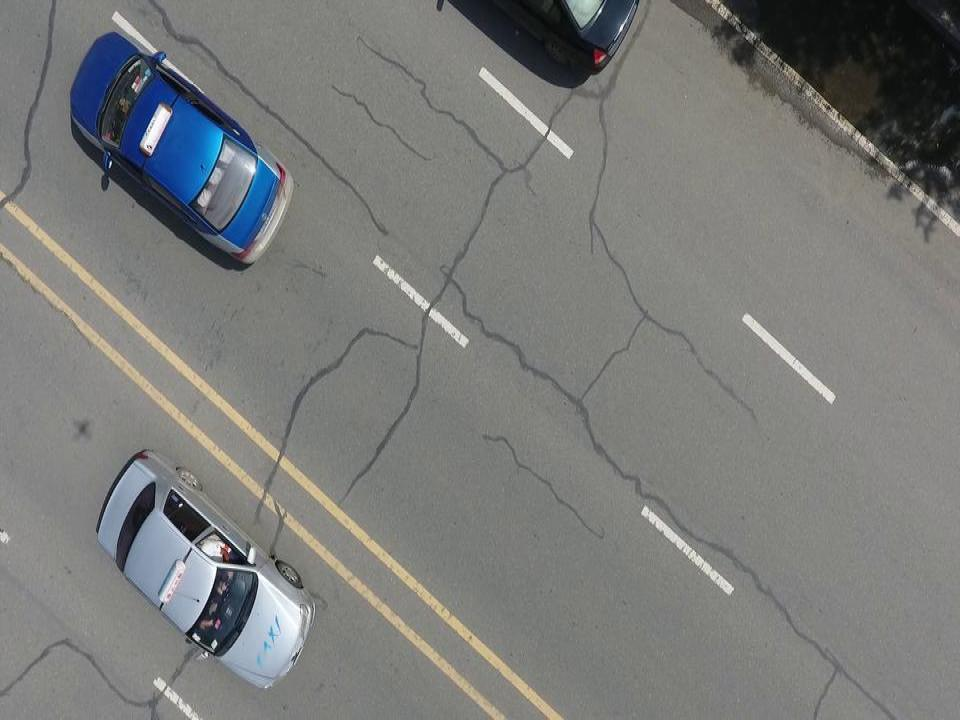car: (66, 23, 297, 273), (96, 442, 316, 694)
